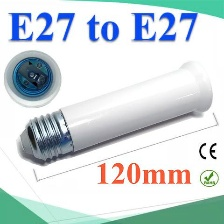light_bulb: (16, 58, 216, 164)
